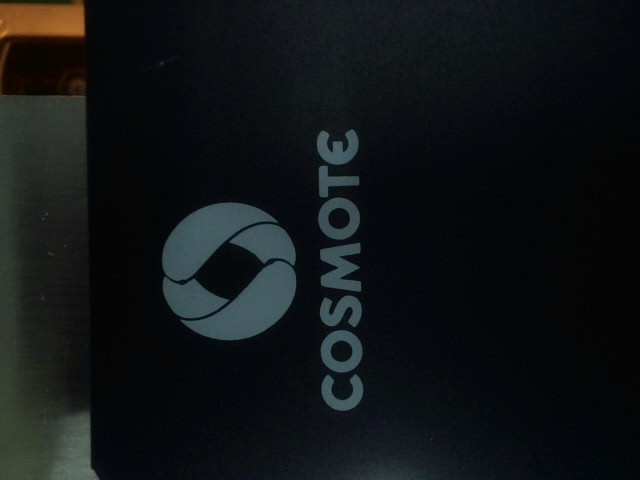AU_COSMOTE: (159, 118, 394, 417)
